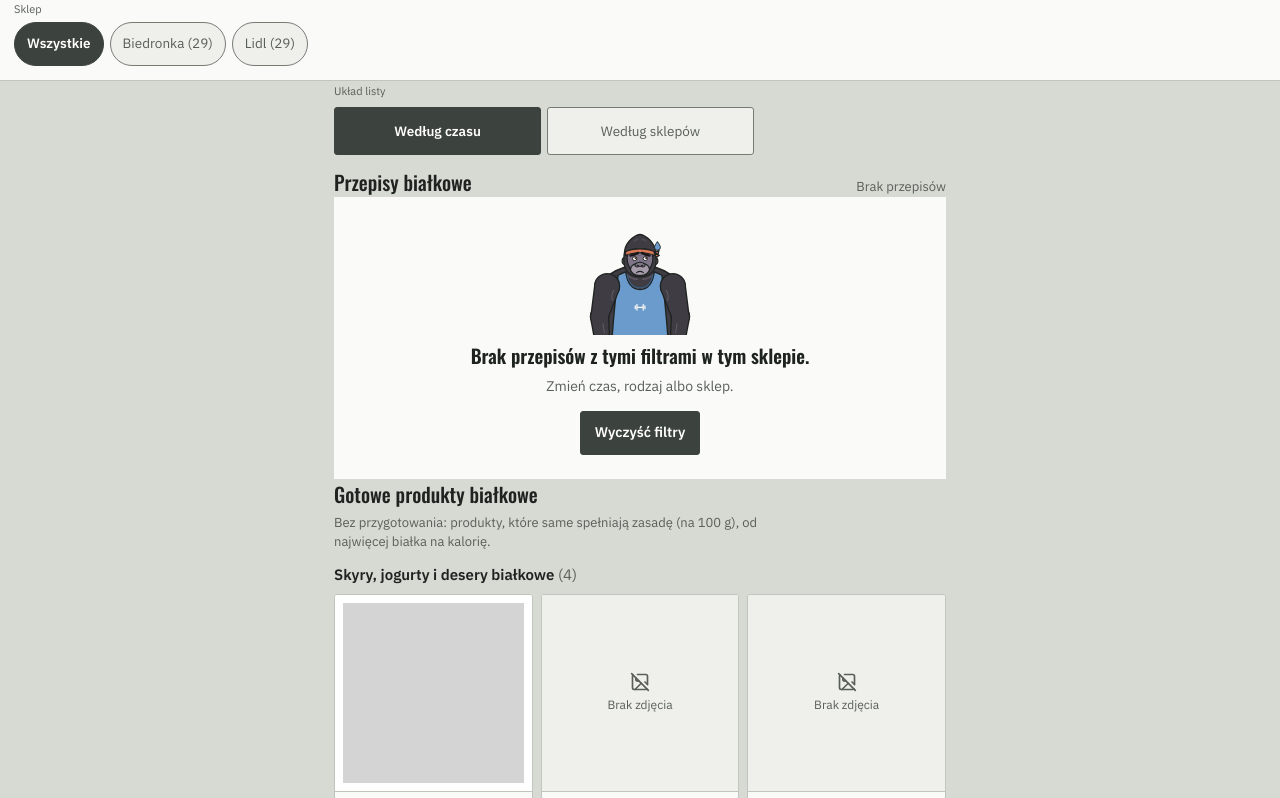
Test: Przepisy › pusty wynik daje się wyczyścić jednym przyciskiem
(page scrolled)
Expected: the text "Brak przepisów z tymi filtrami w tym sklepie." is shown, [471, 341, 809, 370]
What coordinates should you click on to do the following:
click the button "Wyczyść filtry"
I would click on:
 (640, 432)
Its box is [580, 410, 700, 454].
(page scrolled)
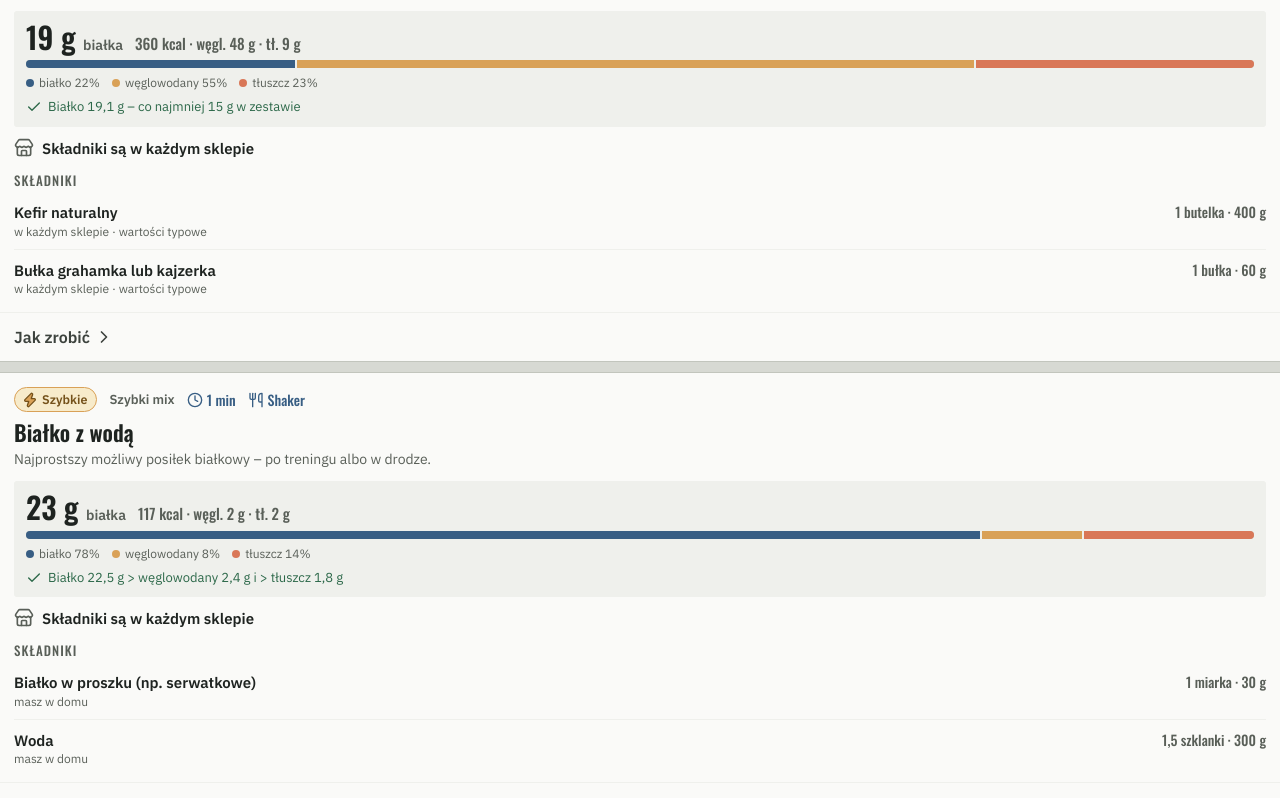
Expected: the heading "Białko z wodą" is shown, [14, 416, 134, 448]
